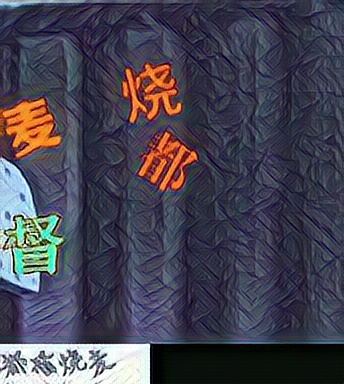B6BC: (138, 130, 199, 195)
B6BD: (4, 211, 65, 276)
C2F3: (2, 91, 63, 156)
C9D5: (121, 61, 182, 126)
